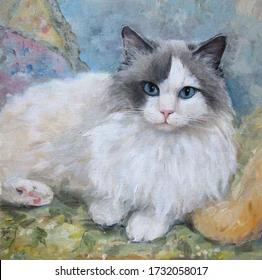ragdoll: (110, 13, 233, 147)
